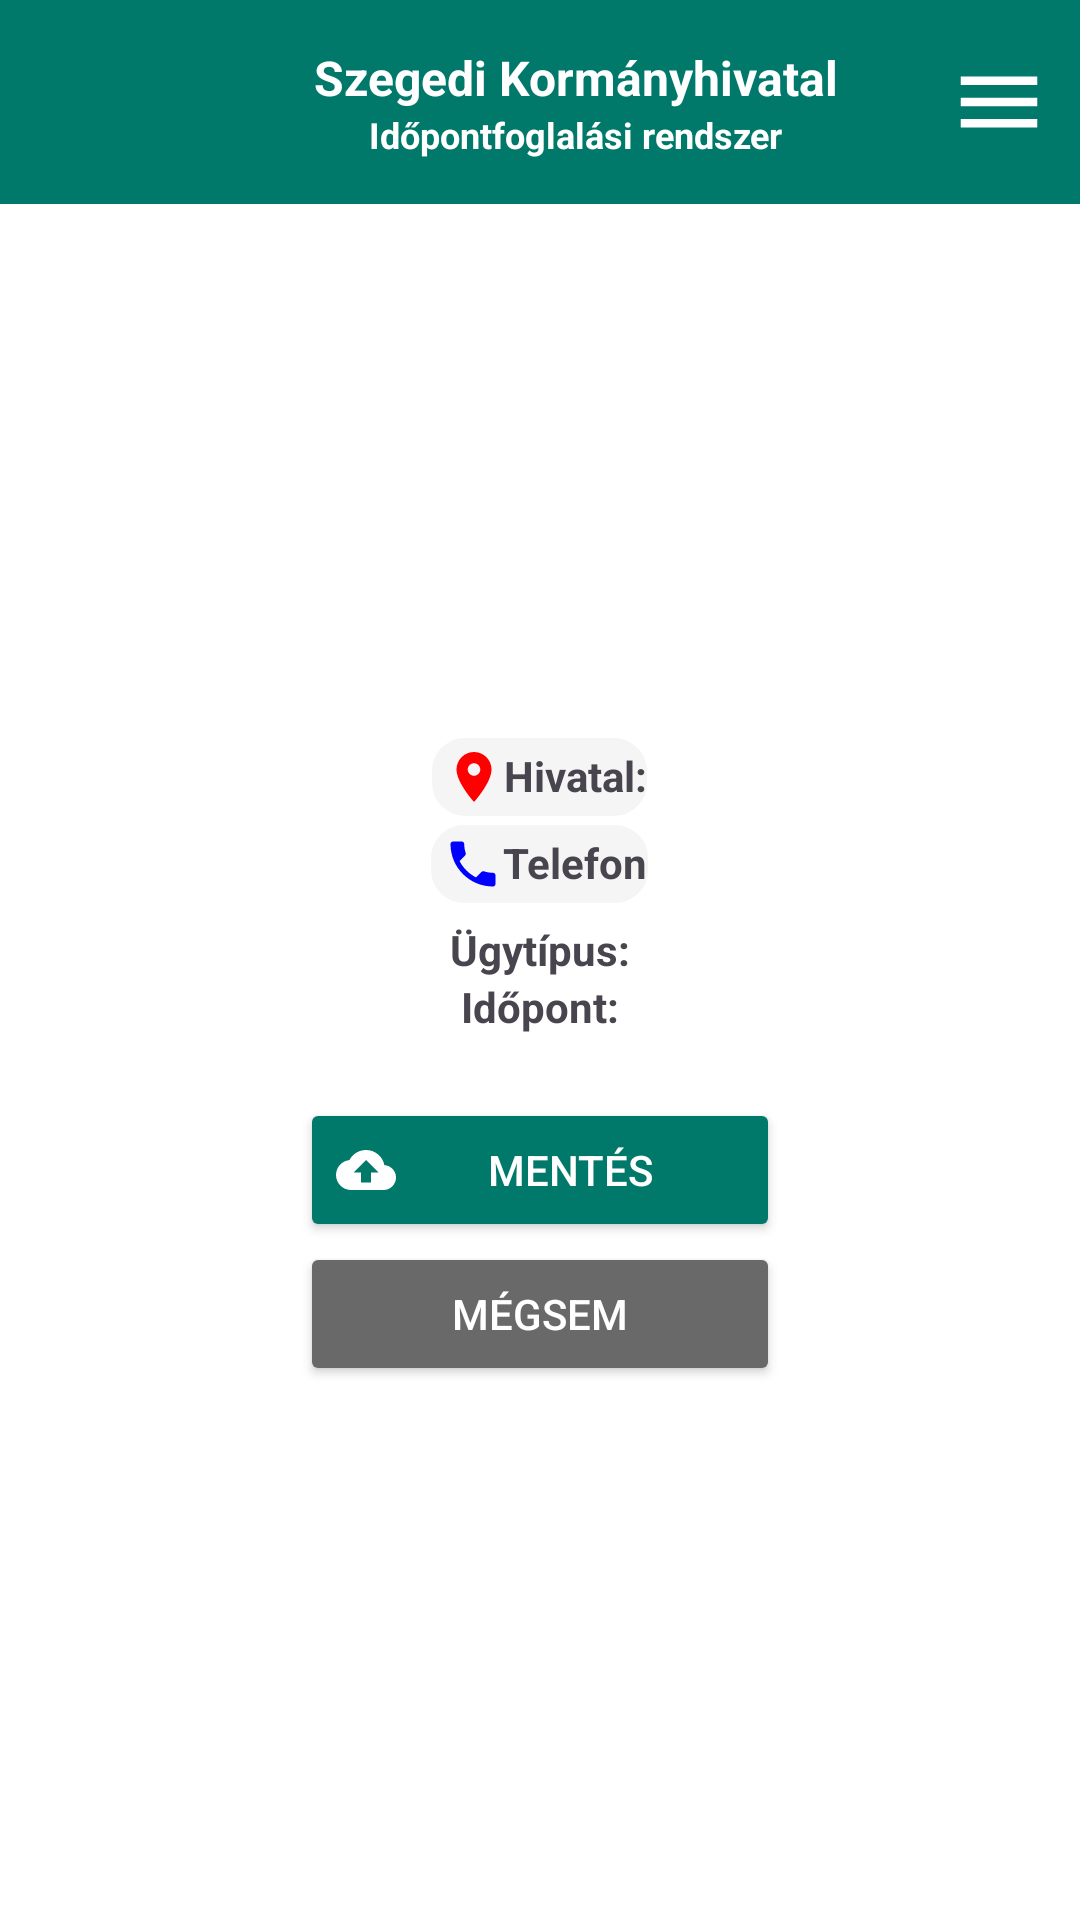

Screen size 1080 x 1920. Icon name, then its box in pixels as (x1, y1, x2, y2):
Menű: (960, 76, 1038, 128)
